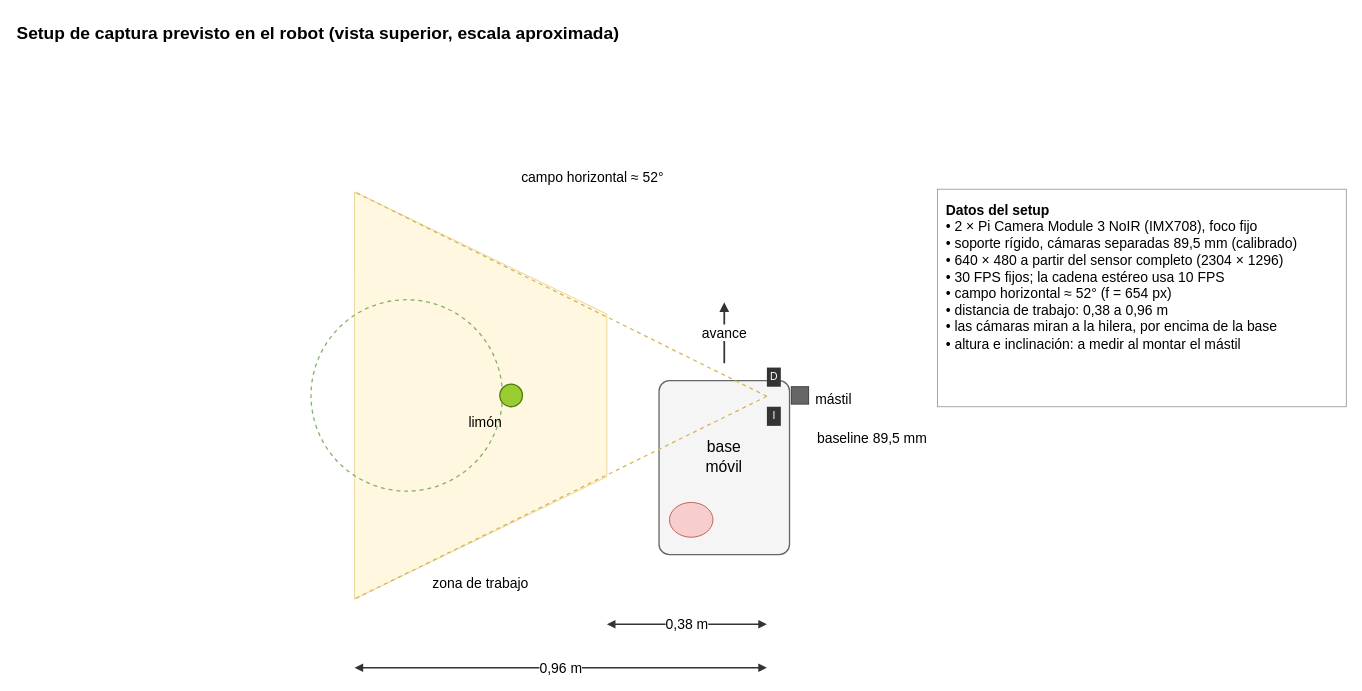
This 1362x691 diagram has some shape labels left out. The shapes that lost their labels are listed below. From the top down, each one's box as (x1, y1, x2, y2) in pixels, then its label:
(310, 299, 503, 491): limonero (hilera)
(669, 502, 713, 537): brazo
